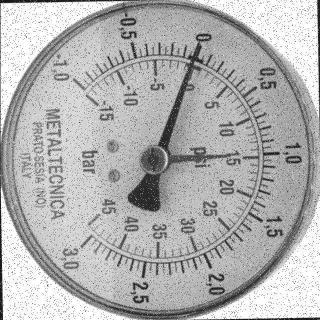gauge: (0, 0, 320, 320), (59, 64, 101, 106), (64, 230, 99, 264), (137, 144, 171, 176), (190, 38, 206, 55), (219, 148, 233, 160)
